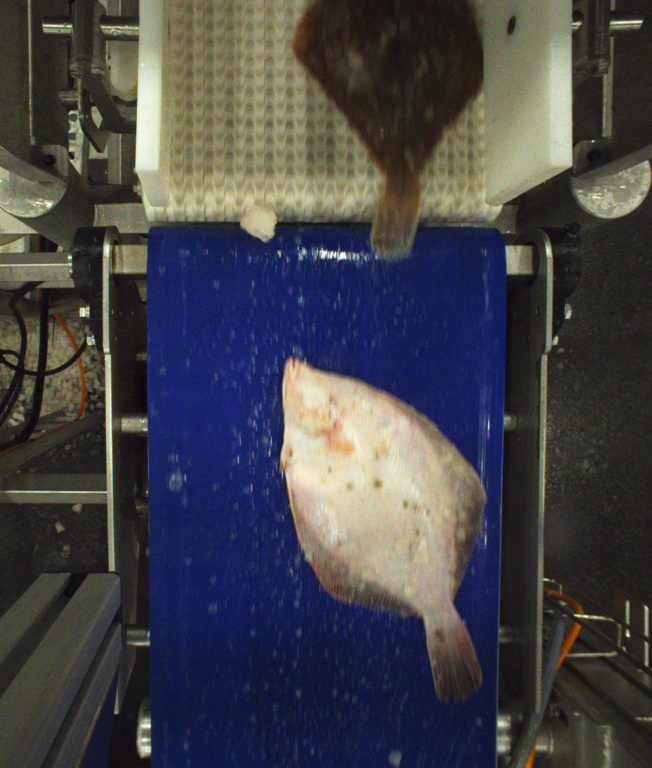PLE: (282, 358, 486, 704)
